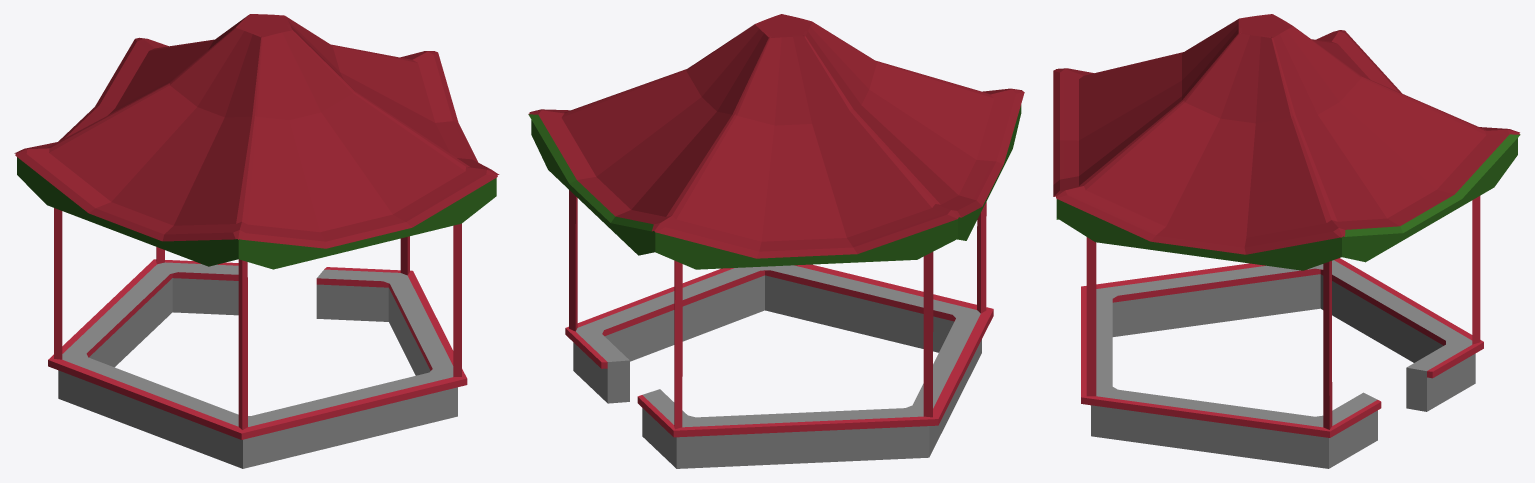
The model's file is park_house.glb.
3 views of the same model, side by side, from view 1: azimuth 30°, elevation 25°; view 2: azimuth 150°, elevation 25°; view 3: azimuth 270°, elevation 25° (orthographic). The views are drawn at different scales.
Visible parts, largest first — view 1: Cylinder.001, Cylinder; view 2: Cylinder.001, Cylinder; view 3: Cylinder.001, Cylinder.
Boxes of the visible parts, bbox=[...] form: Cylinder.001: bbox=[14, 14, 499, 269]; Cylinder: bbox=[48, 208, 467, 468]; Cylinder.001: bbox=[528, 14, 1024, 269]; Cylinder: bbox=[565, 190, 993, 468]; Cylinder.001: bbox=[1053, 14, 1520, 270]; Cylinder: bbox=[1081, 196, 1483, 468].
Bounding box in the file's own units: 9.71 × 7.8 × 9.24.
